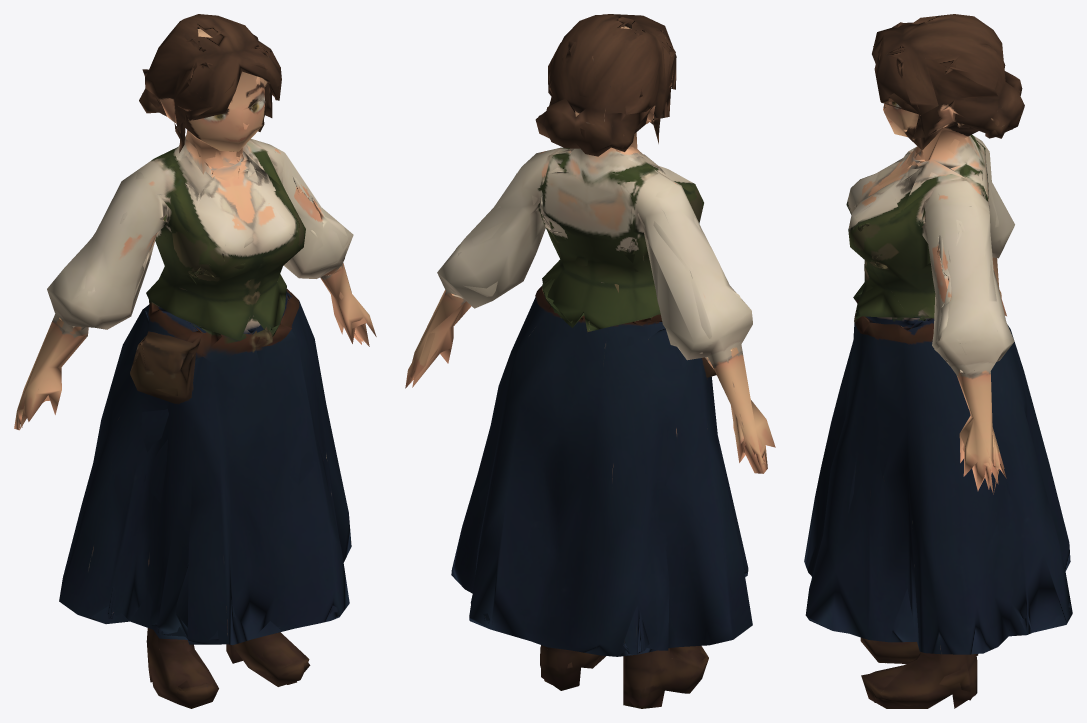
The model's file is generated_textured.glb.
3 views of the same model, side by side, from view 1: azimuth 30°, elevation 25°; view 2: azimuth 150°, elevation 25°; view 3: azimuth 270°, elevation 25° (orthographic). The views are drawn at different scales.
Bounding box in the file's own units: 0.5501 × 0.9826 × 0.3607.
1 material, 1 textured.
